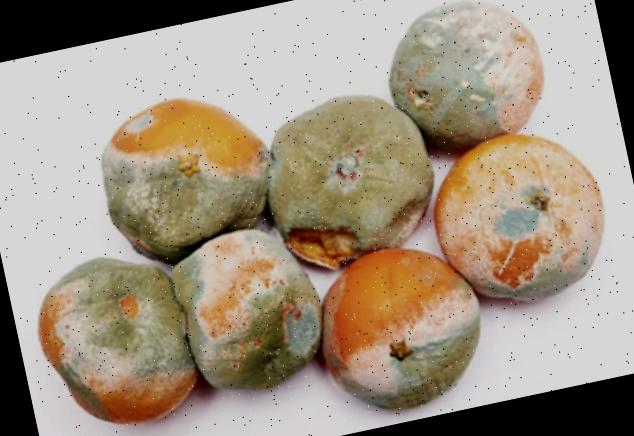Orange Rotten: (240, 63, 460, 301), (416, 98, 631, 330), (292, 210, 503, 430), (12, 231, 234, 436), (65, 80, 290, 276), (151, 200, 347, 412), (363, 0, 571, 172)
